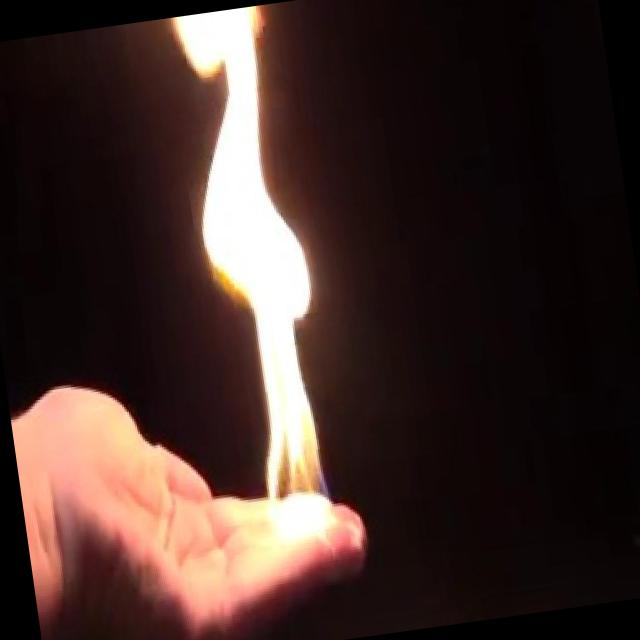Fire: (152, 2, 352, 544)
